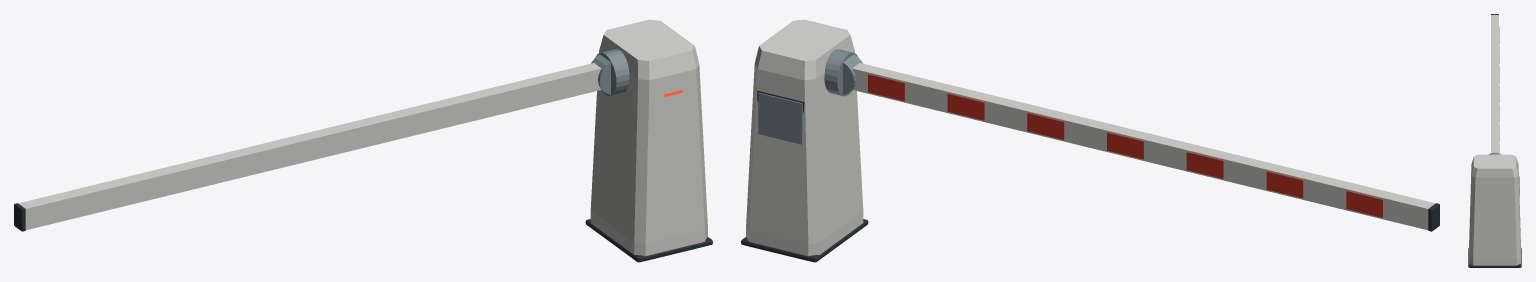
File: SIMUS_Parking_EntryGate.fbx
3 views of the same model, side by side, from view 1: azimuth 30°, elevation 25°; view 2: azimuth 150°, elevation 25°; view 3: azimuth 270°, elevation 25° (orthographic). The views are drawn at different scales.
Visible parts, largest first — view 1: COL_PARKING_GATE_ENTRY_BODY, COL_ENTRY_Arm, PARKING_GATE_ENTRY_BODY, ENTRY_Arm, ENTRY_HingeShaft, ENTRY_BaseGasket, ENTRY_PivotCap; view 2: COL_PARKING_GATE_ENTRY_BODY, COL_ENTRY_Arm, PARKING_GATE_ENTRY_BODY, ENTRY_Arm, ENTRY_ServiceDoor, ENTRY_HingeShaft, ENTRY_BaseGasket, ENTRY_Reflector_02, ENTRY_Reflector_05, ENTRY_Reflector_01, ENTRY_Reflector_04, ENTRY_Reflector_00 (+3 smaller); view 3: COL_PARKING_GATE_ENTRY_BODY, PARKING_GATE_ENTRY_BODY, ENTRY_Arm, COL_ENTRY_Arm, ENTRY_BaseGasket.
Part boxes in pixels (x1,y1,x2,y2): COL_PARKING_GATE_ENTRY_BODY: [590, 19, 707, 260]; COL_ENTRY_Arm: [18, 63, 601, 230]; PARKING_GATE_ENTRY_BODY: [591, 20, 707, 255]; ENTRY_Arm: [22, 64, 594, 227]; ENTRY_HingeShaft: [596, 49, 629, 96]; ENTRY_BaseGasket: [585, 219, 712, 262]; ENTRY_PivotCap: [591, 54, 610, 94]; COL_PARKING_GATE_ENTRY_BODY: [746, 19, 863, 260]; COL_ENTRY_Arm: [852, 63, 1435, 230]; PARKING_GATE_ENTRY_BODY: [746, 20, 861, 255]; ENTRY_Arm: [853, 65, 1427, 228]; ENTRY_ServiceDoor: [758, 92, 802, 144]; ENTRY_HingeShaft: [824, 49, 857, 96]; ENTRY_BaseGasket: [741, 219, 868, 262]; ENTRY_Reflector_02: [1027, 113, 1064, 139]; ENTRY_Reflector_05: [1266, 171, 1303, 198]; ENTRY_Reflector_01: [947, 93, 984, 120]; ENTRY_Reflector_04: [1186, 152, 1223, 178]; ENTRY_Reflector_00: [868, 74, 904, 101]; COL_PARKING_GATE_ENTRY_BODY: [1469, 154, 1520, 265]; PARKING_GATE_ENTRY_BODY: [1469, 155, 1520, 265]; ENTRY_Arm: [1492, 15, 1497, 152]; COL_ENTRY_Arm: [1491, 15, 1498, 153]; ENTRY_BaseGasket: [1468, 248, 1521, 267].
Bounding box in the file's own units: 328 × 91 × 45.
